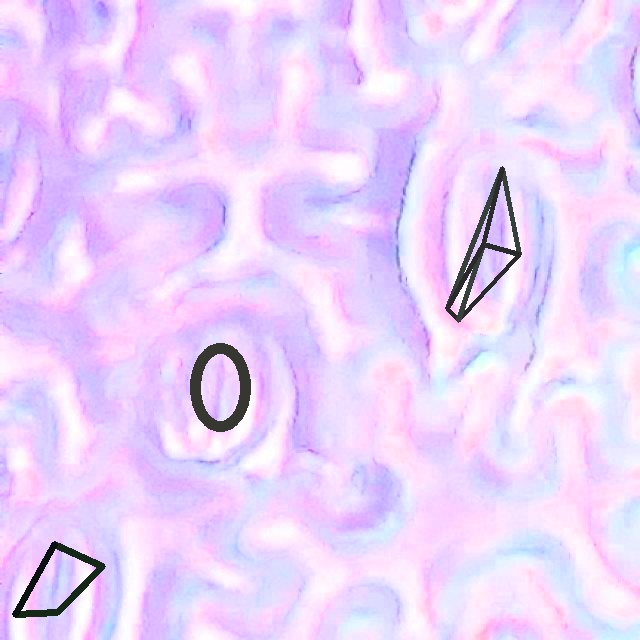close: (191, 343, 250, 431)
open: (445, 166, 521, 322), (12, 541, 105, 615)
